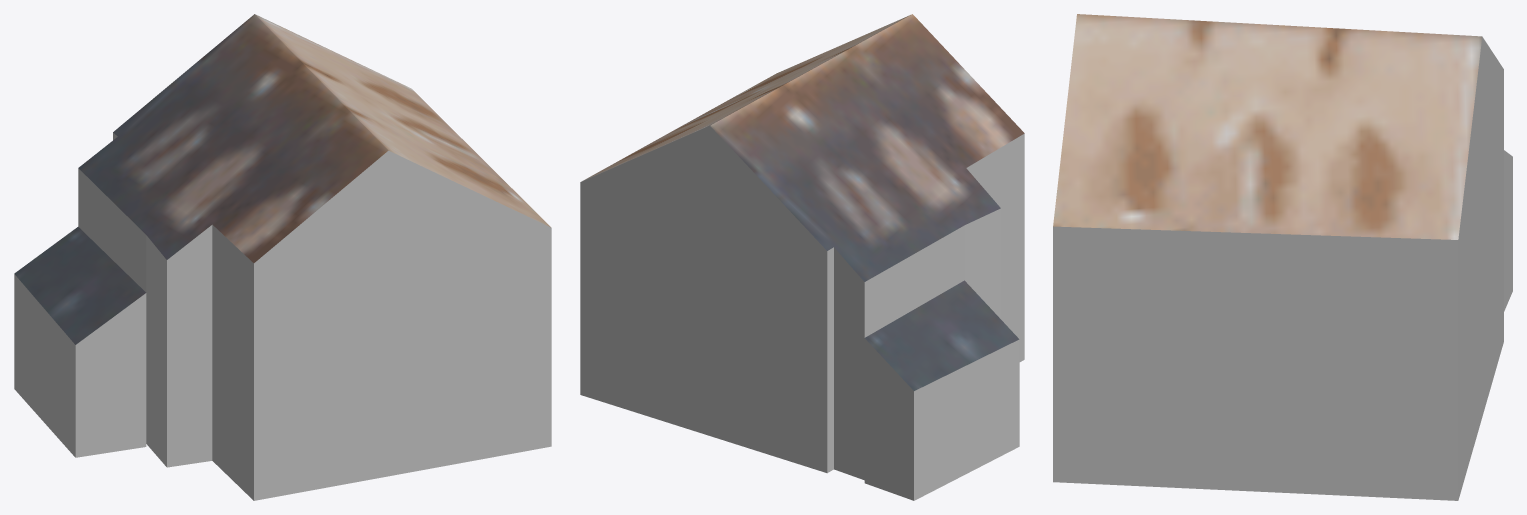
The model's file is DEBW_0010007Tx6h.gltf.
3 renders of one model, left to right at view 1: azimuth 30°, elevation 25°; view 2: azimuth 150°, elevation 25°; view 3: azimuth 270°, elevation 25°, orthographic. The views are drawn at different scales.
Parts seen in each view (by area): view 1: Z_UP; view 2: Z_UP; view 3: Z_UP.
Part boxes in pixels (left/top/right/bottom): Z_UP: left=14, top=14, right=551, bottom=500; Z_UP: left=580, top=14, right=1024, bottom=500; Z_UP: left=1053, top=14, right=1512, bottom=500.
Size of the model in its own units: 14.39 by 11.35 by 12.3.
Materials: 2 (1 with a texture image).
